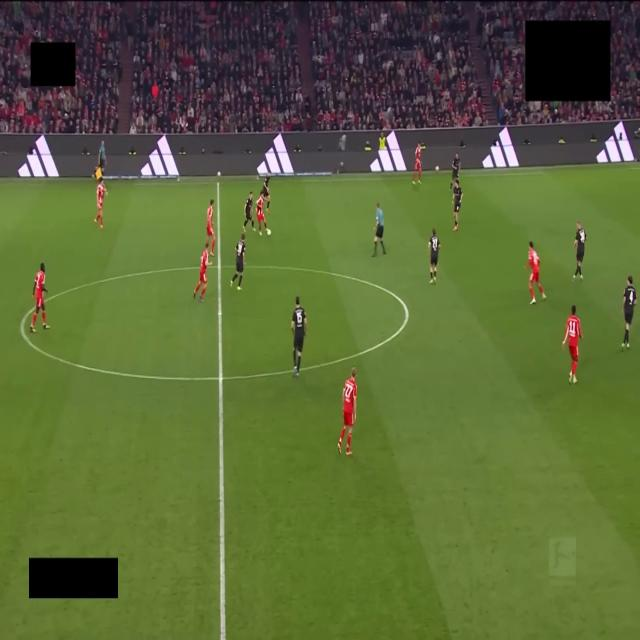ball: (267, 230, 271, 236)
player: (337, 368, 356, 455), (563, 305, 582, 383), (291, 296, 307, 378), (30, 263, 49, 332), (525, 242, 545, 304), (194, 242, 212, 302), (622, 276, 636, 349), (230, 232, 245, 290), (574, 222, 586, 279), (95, 177, 107, 229), (256, 194, 270, 235), (452, 179, 463, 231), (430, 229, 440, 284), (243, 192, 255, 231), (207, 199, 215, 255), (450, 153, 460, 191), (260, 175, 270, 213), (413, 144, 421, 184)
referee: (373, 203, 385, 256)
